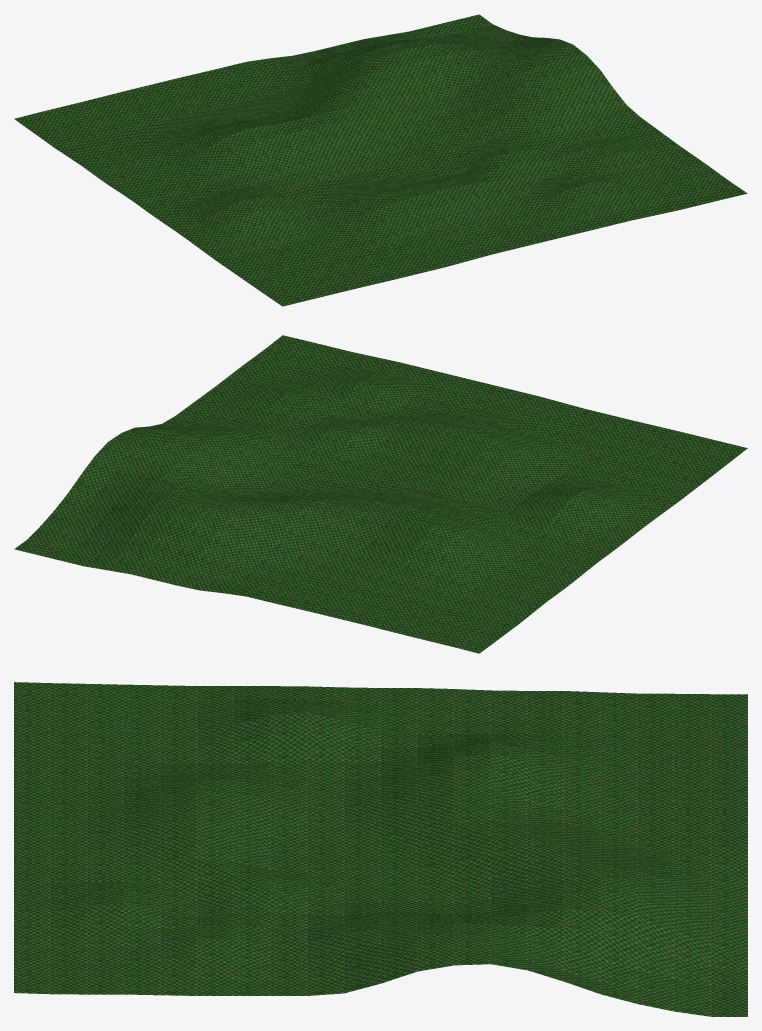
Rendered from Terrain Chunk.fbx.
3 renders of one model, top to bottom at view 1: azimuth 30°, elevation 25°; view 2: azimuth 150°, elevation 25°; view 3: azimuth 270°, elevation 25°, orthographic. The views are drawn at different scales.
Visible parts, largest first — view 1: Terrain_Chunk_Clone_; view 2: Terrain_Chunk_Clone_; view 3: Terrain_Chunk_Clone_.
Boxes of the visible parts, box(x1,y1,x2,y2) form: Terrain_Chunk_Clone_: box(14, 14, 747, 306); Terrain_Chunk_Clone_: box(14, 335, 747, 653); Terrain_Chunk_Clone_: box(14, 682, 747, 1016).
Size of the model in its own units: 10000 by 791 by 10000.
2 materials, 2 textured.
